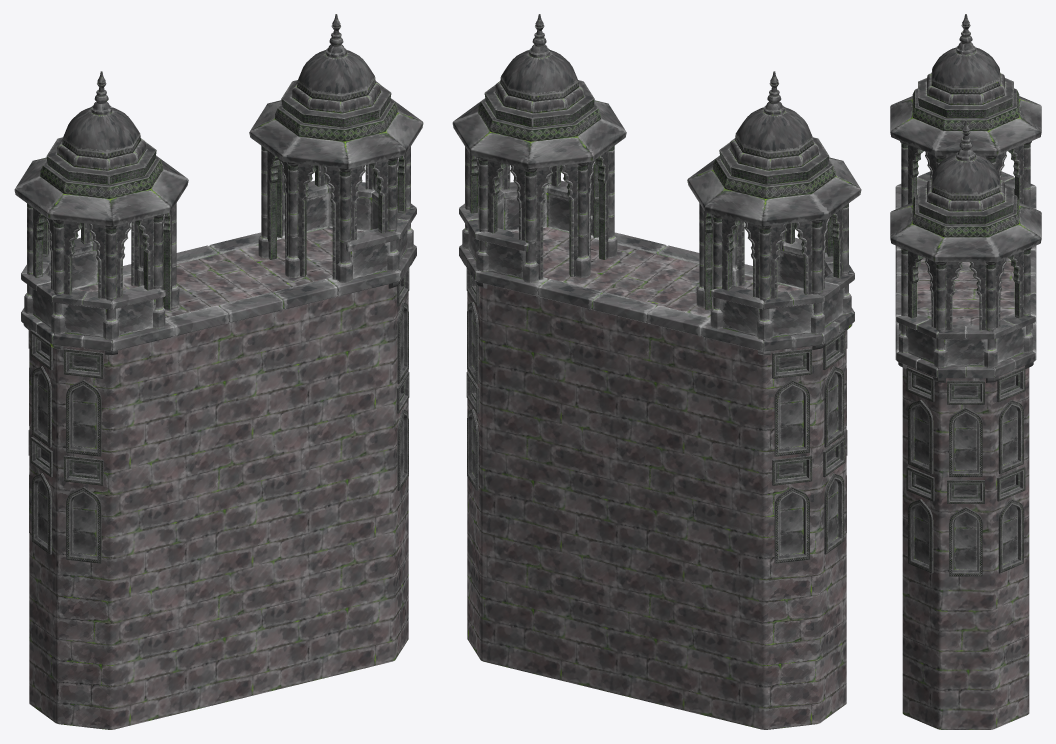
File: bridge_seg_1.fbx
The picture shows the model from 3 angles, left to right: view 1: azimuth 30°, elevation 25°; view 2: azimuth 150°, elevation 25°; view 3: azimuth 270°, elevation 25°; orthographic projection. The views are drawn at different scales.
Parts seen in each view (by area): view 1: bridge_seg_1; view 2: bridge_seg_1; view 3: bridge_seg_1.
Part boxes in pixels (x1,y1,x2,y2): bridge_seg_1: [14, 14, 423, 729]; bridge_seg_1: [452, 14, 861, 729]; bridge_seg_1: [890, 14, 1041, 729].
Size of the model in its own units: 41.29 by 65.98 by 15.52.
